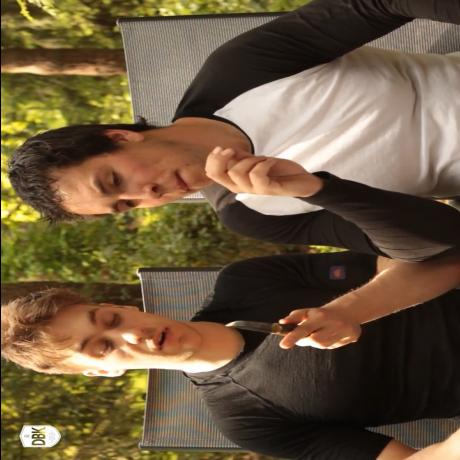1: (8, 0, 460, 254), (1, 252, 460, 460)
weapon: (218, 316, 292, 336)
